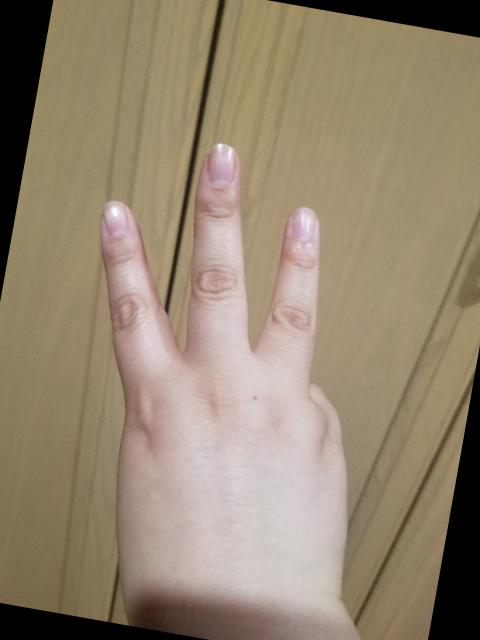W: (25, 118, 428, 640)
